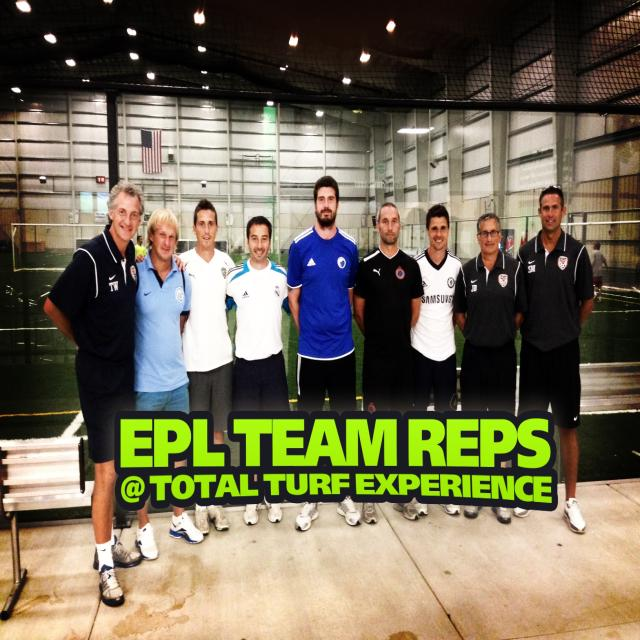body: (44, 180, 188, 612), (510, 184, 597, 537), (284, 174, 362, 535), (133, 202, 207, 563), (352, 201, 424, 524), (452, 212, 525, 525), (222, 214, 292, 527), (176, 199, 237, 538), (410, 206, 466, 517), (590, 239, 610, 303), (134, 234, 147, 257)
